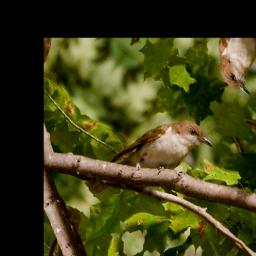Cuckoo: (81, 84, 219, 242)
